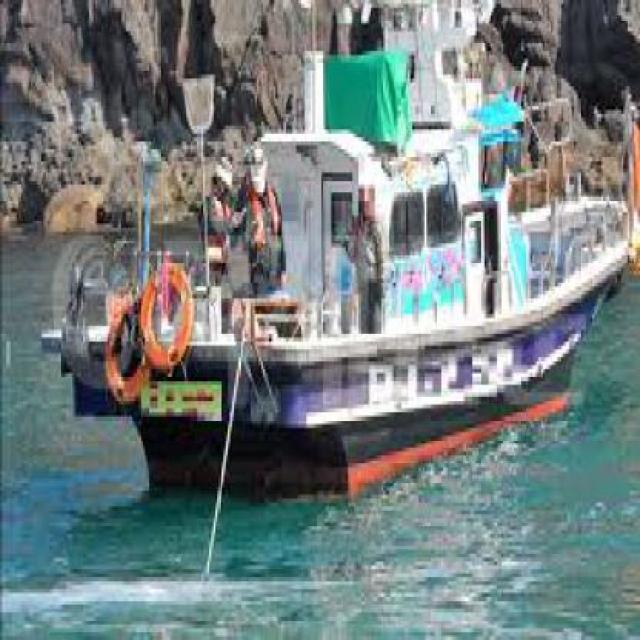fish-b: (117, 28, 640, 531)
